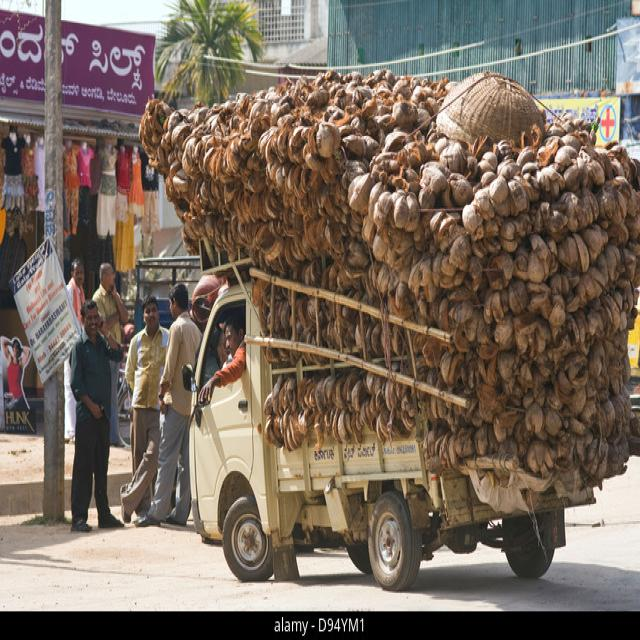normal_truck: (182, 285, 565, 590)
overloaded_truck: (141, 72, 640, 510)
